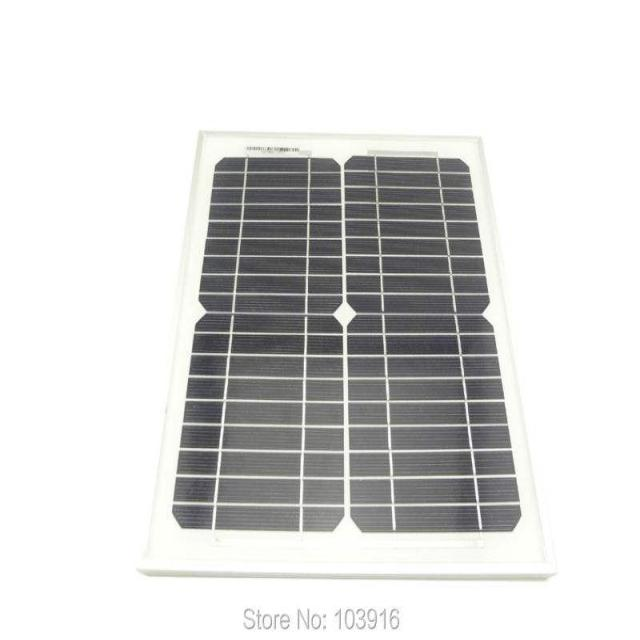dust-solar-panel: (172, 153, 521, 533)
